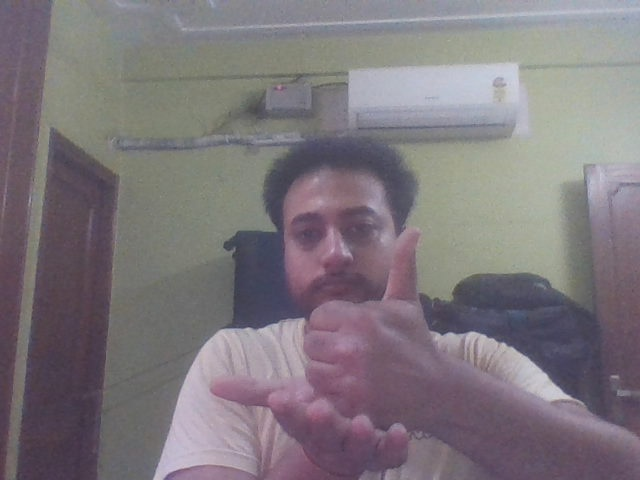Help: (204, 227, 540, 477)
